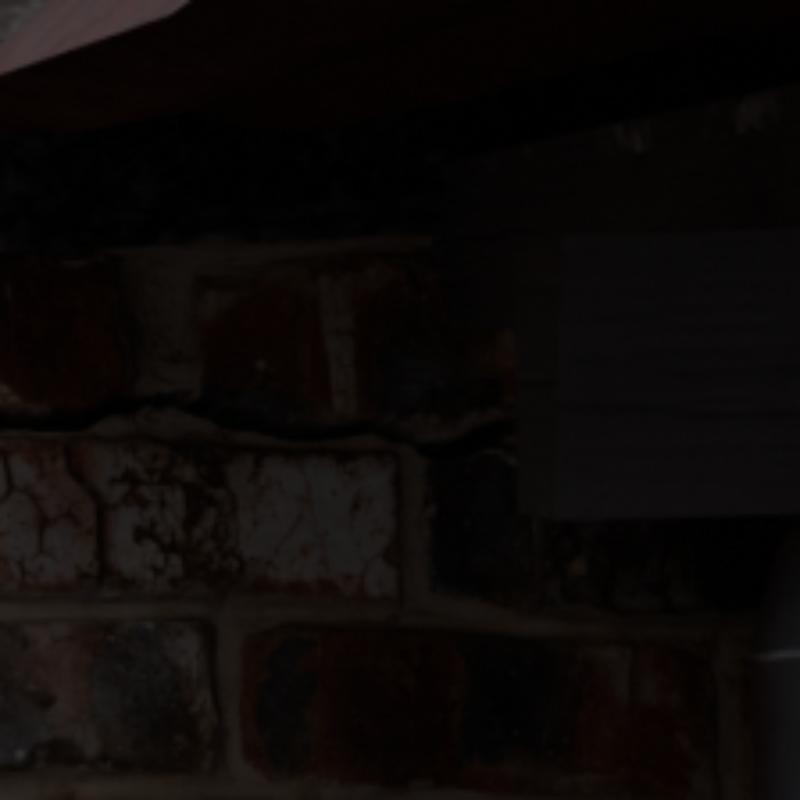crack: (0, 386, 514, 461), (68, 443, 111, 586)
